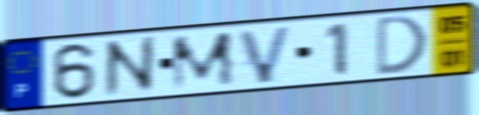1: (323, 21, 352, 77)
6: (49, 41, 98, 102)
D: (373, 12, 430, 79)
M: (169, 29, 238, 93)
N: (101, 33, 159, 101)
V: (236, 23, 297, 86)
